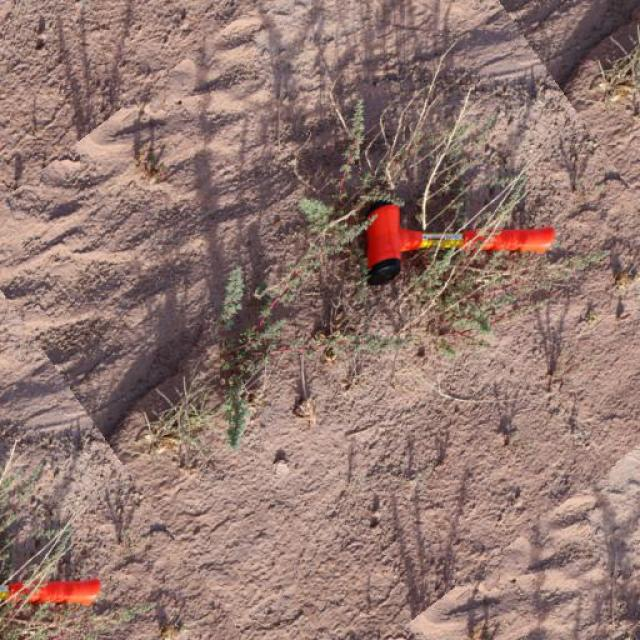mallet: (358, 197, 556, 285)
